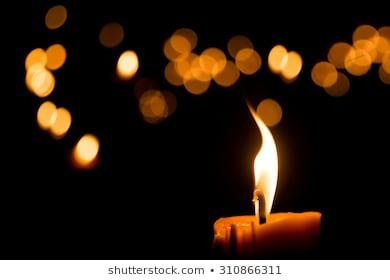fire: (248, 102, 280, 218)
